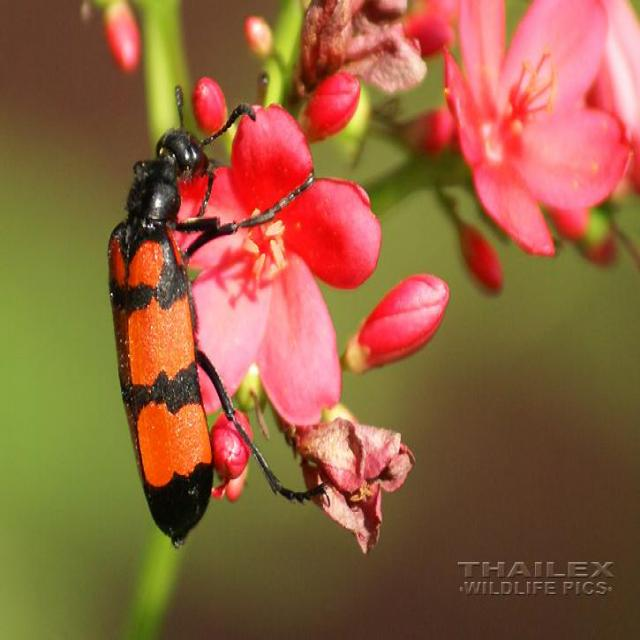BlisterBeetle-Adult-: (98, 73, 331, 552)
